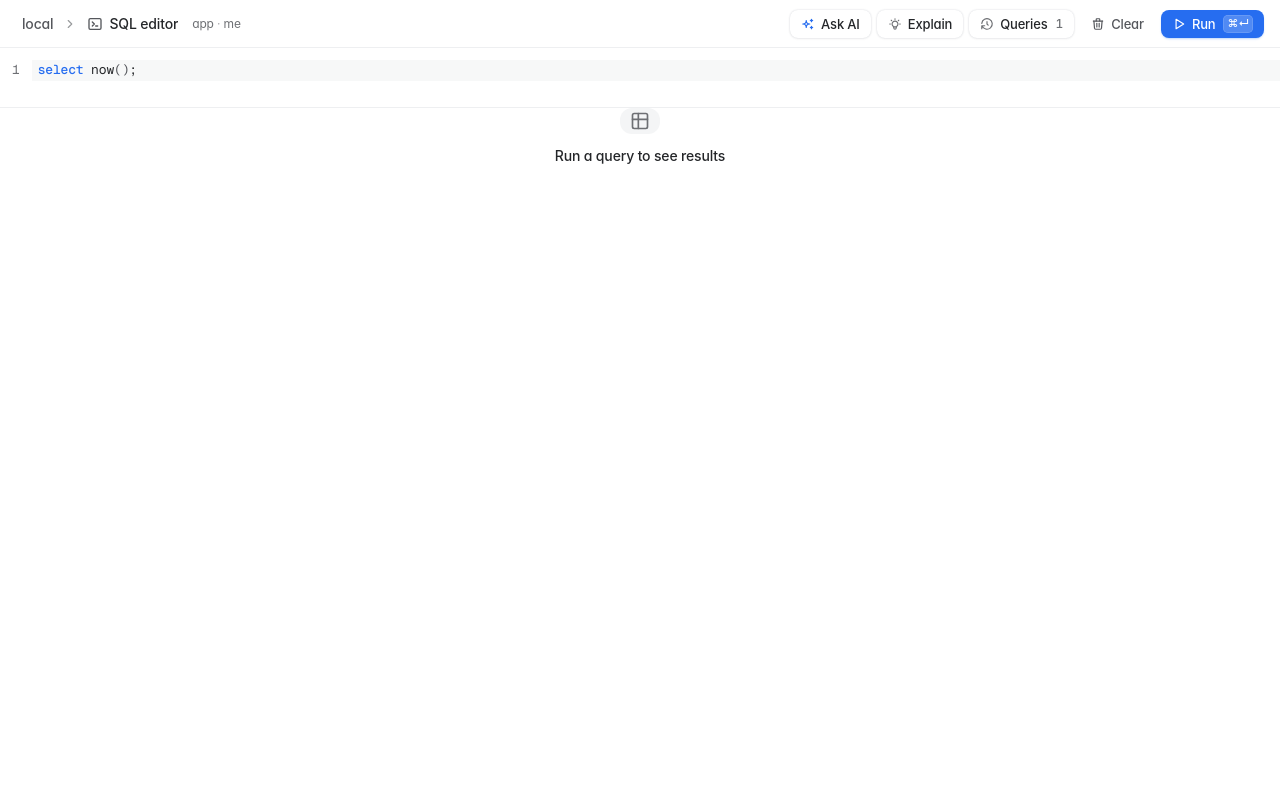
Test case: the query library › will not clear a history that is entirely starred
Expected: the element with test id "sql-editor" is shown, [0,48,1279,107]
What coordinates should you click on to do the following:
click the button "Queries 1"
I would click on:
 (1022, 24)
Its box is [969,10,1074,38].
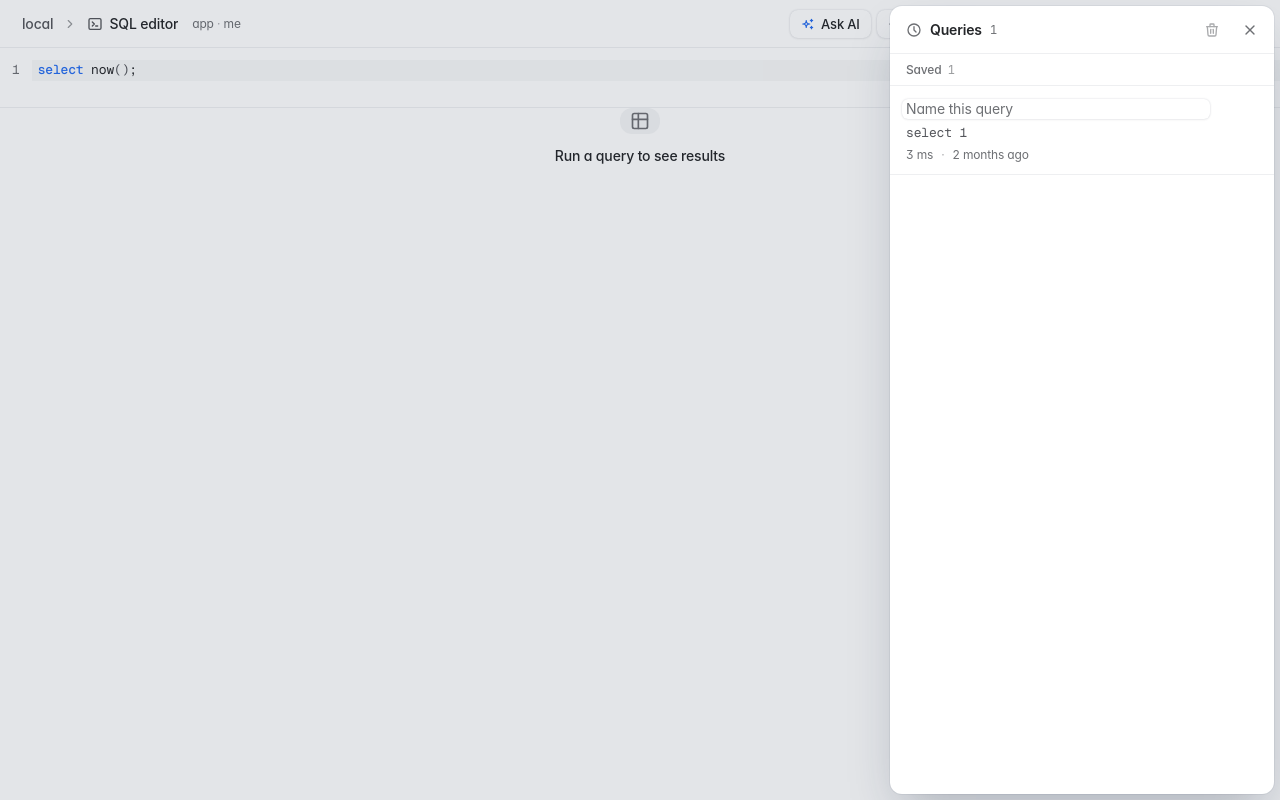
Result: the button named "Clear history" is disabled at [1198,16,1226,44]
